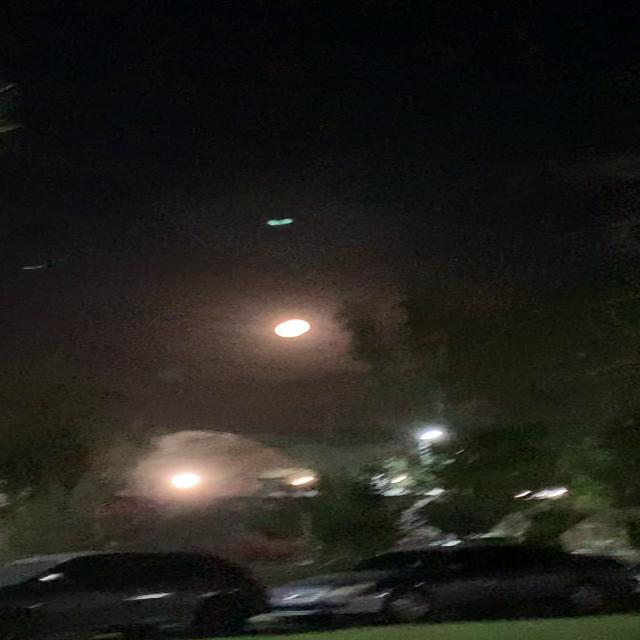moon: (277, 307, 330, 333)
